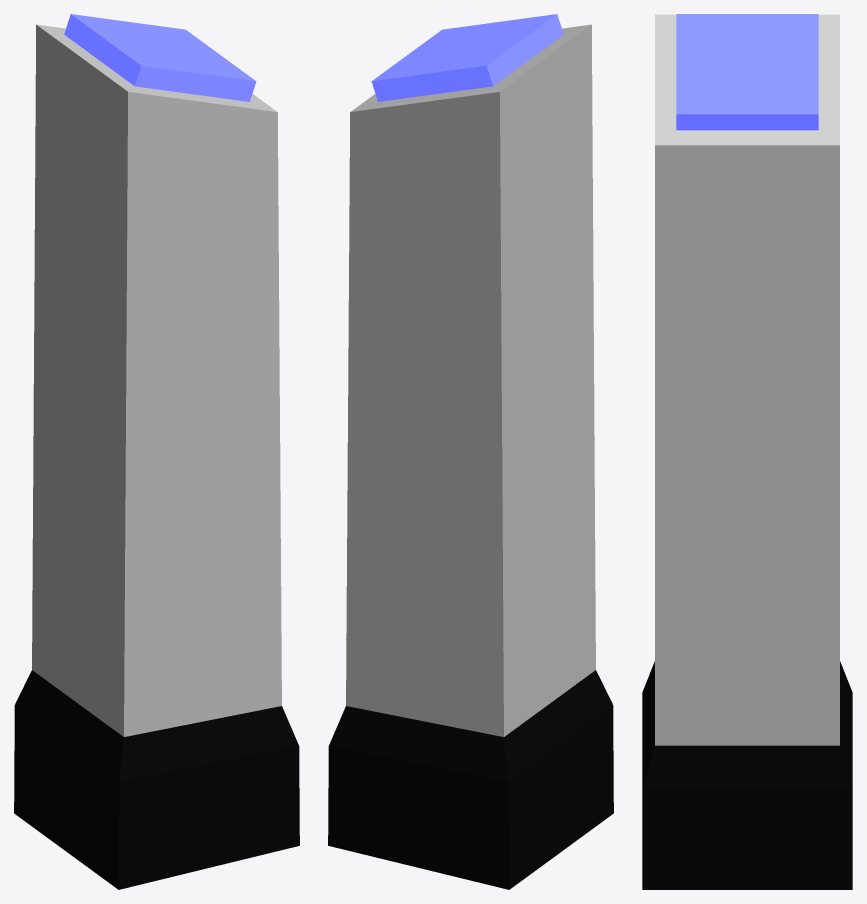
File: ButtonBlue.glb
3 renders of one model, left to right at view 1: azimuth 30°, elevation 25°; view 2: azimuth 150°, elevation 25°; view 3: azimuth 270°, elevation 25°, orthographic.
Parts seen in each view (by area): view 1: Cube; view 2: Cube; view 3: Cube.
Part boxes in pixels (x1,y1,x2,y2): Cube: (14, 14, 299, 889); Cube: (328, 14, 613, 889); Cube: (642, 14, 852, 889).
Bounding box in the file's own units: 0.2882 × 1.22 × 0.2882.
